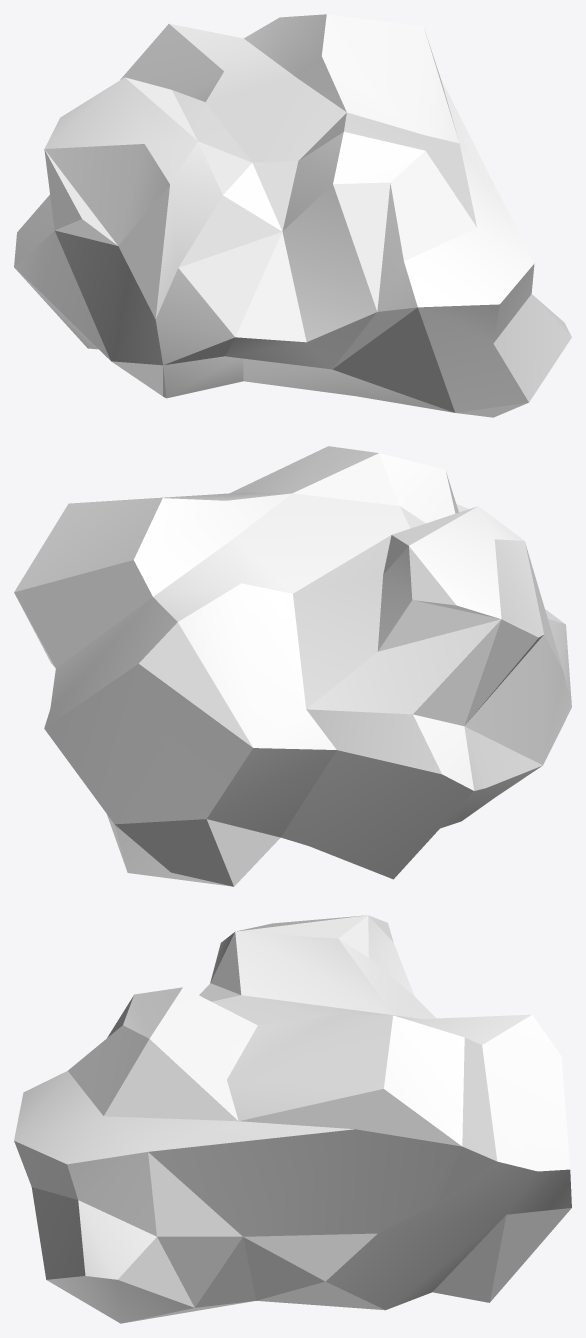
Rendered from ground.rock8.glb.
3 renders of one model, top to bottom at view 1: azimuth 30°, elevation 25°; view 2: azimuth 150°, elevation 25°; view 3: azimuth 270°, elevation 25°, orthographic. The views are drawn at different scales.
Parts seen in each view (by area): view 1: rock8; view 2: rock8; view 3: rock8.
Part boxes in pixels (bbox=[...]): rock8: bbox=[14, 14, 571, 417]; rock8: bbox=[14, 446, 571, 886]; rock8: bbox=[14, 915, 571, 1323].
Size of the model in its own units: 0.9181 by 0.6682 by 1.14.
1 material, 1 textured.
